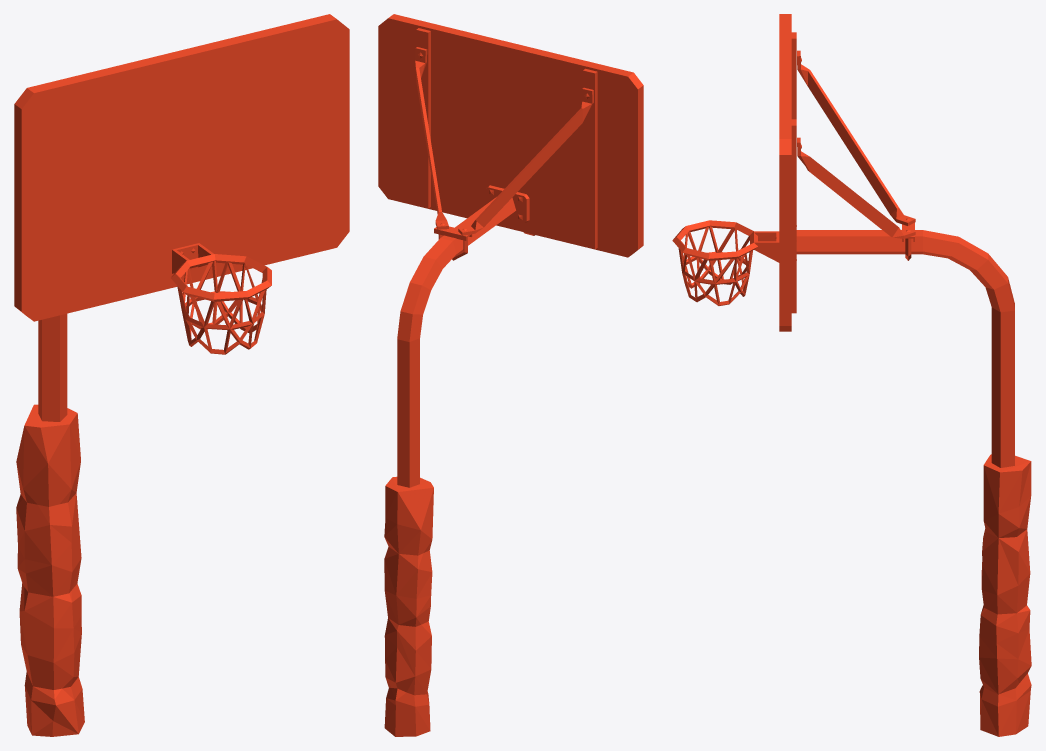
Rendered from SM_Hoop_Basketball_B_City.fbx.
3 views of the same model, side by side, from view 1: azimuth 30°, elevation 25°; view 2: azimuth 150°, elevation 25°; view 3: azimuth 270°, elevation 25° (orthographic). The views are drawn at different scales.
Parts seen in each view (by area): view 1: SM_Hoop_Basketball_B_City; view 2: SM_Hoop_Basketball_B_City; view 3: SM_Hoop_Basketball_B_City.
Part boxes in pixels (box(x1,y1,x2,y2)): SM_Hoop_Basketball_B_City: box(14, 14, 349, 736); SM_Hoop_Basketball_B_City: box(378, 14, 643, 736); SM_Hoop_Basketball_B_City: box(672, 14, 1031, 736).
Bounding box in the file's own units: 1.78 × 3.98 × 2.
